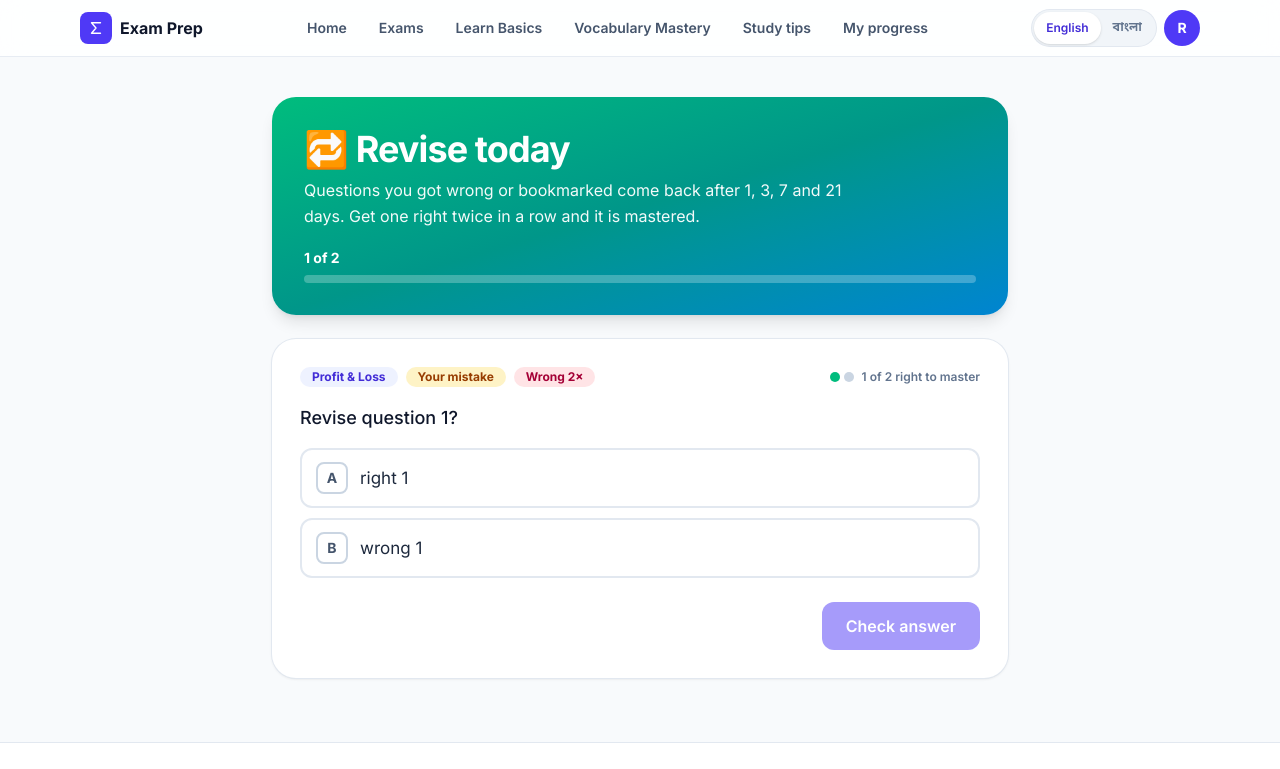
Test case: revision queue and mistake notebook › a revision session: right twice masters, wrong comes back tomorrow, then a summary
Check: the text "Revise question 1?" is shown, box [300,407,458,428]
Check: the text "1 of 2" is shown, box [304,249,340,266]
Click the radio button labelled "A right 1" at (332, 478), box [300,448,980,508]
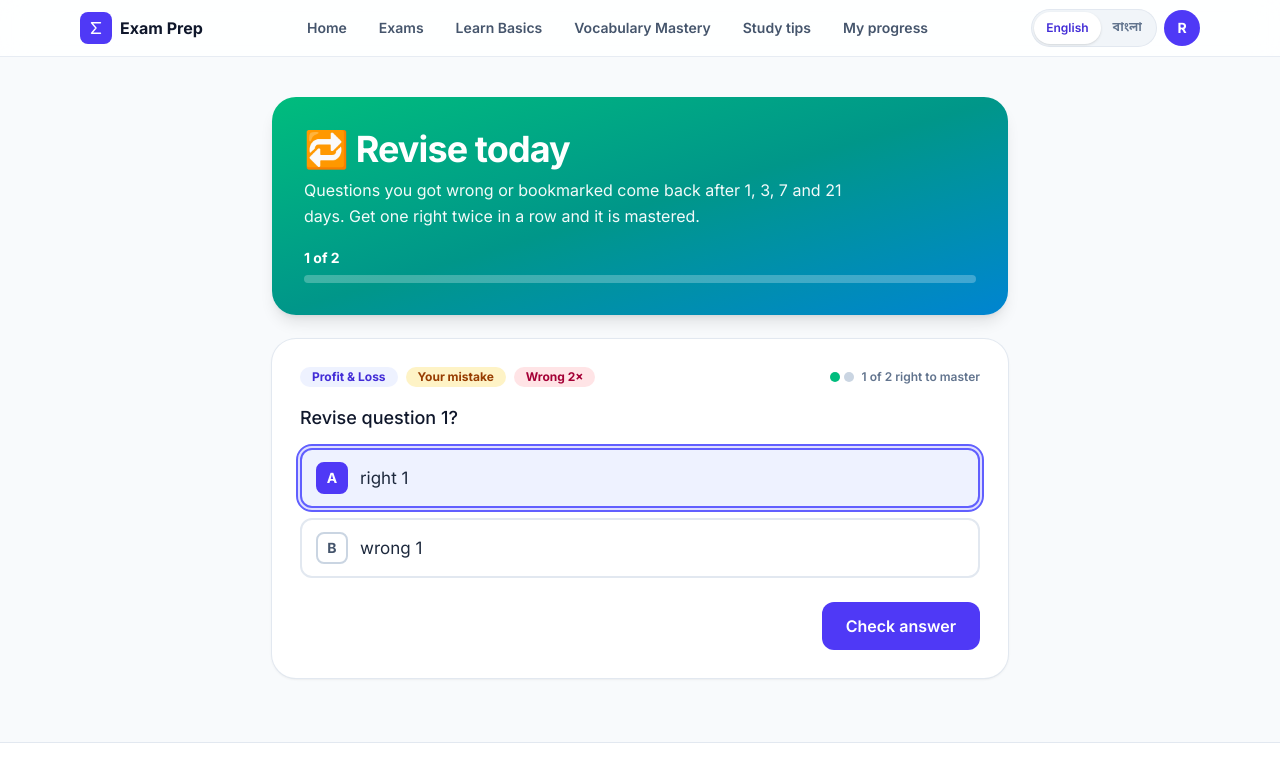
Click the button "Check answer" at (901, 626), box [822,602,980,650]
(page scrolled)
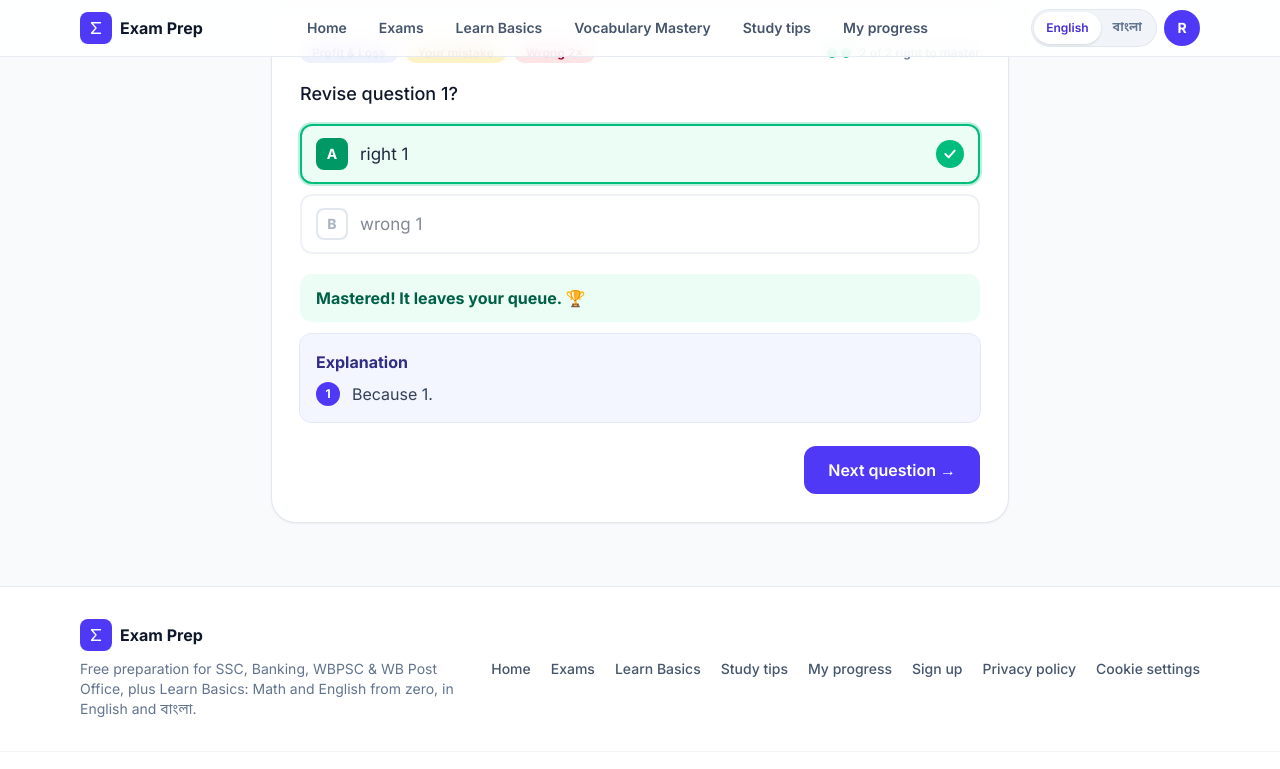
Check: the text "Mastered! It leaves your queue. 🏆" is shown, box [300,274,980,322]
Check: the text "Because 1." is shown, box [352,384,433,404]
Click the button "Next question →" at (892, 470), box [804,446,980,494]
(page scrolled)
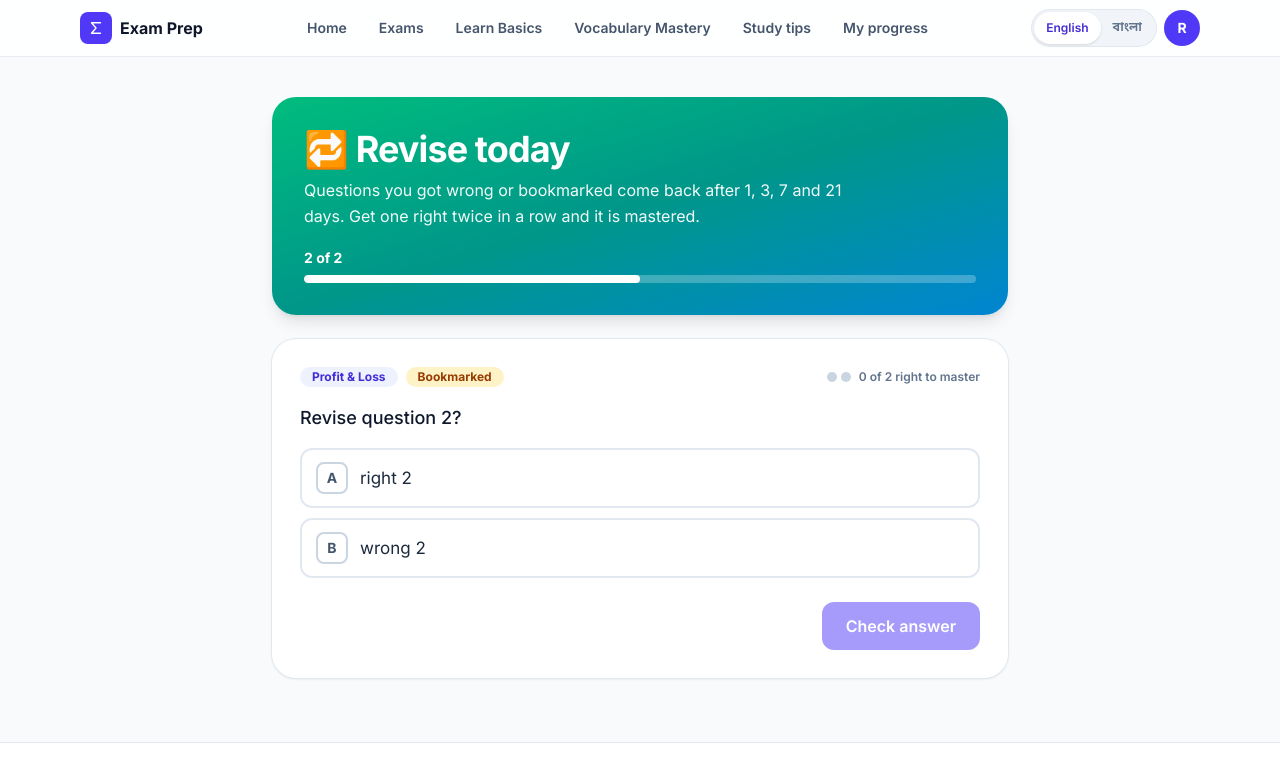
Check: the text "Revise question 2?" is shown, box [300,407,462,428]
Click the radio button labelled "B wrong 2" at (332, 548), box [300,518,980,578]
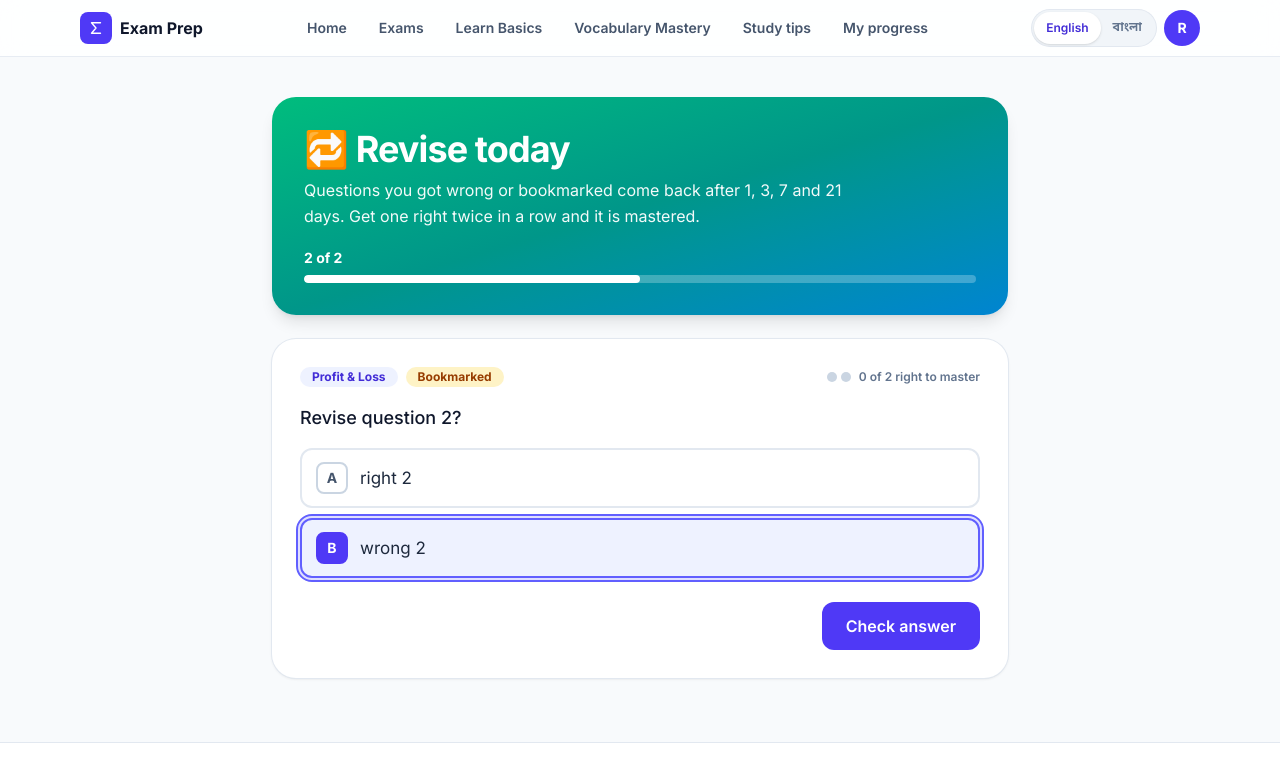
Click the button "Check answer" at (901, 626), box [822,602,980,650]
(page scrolled)
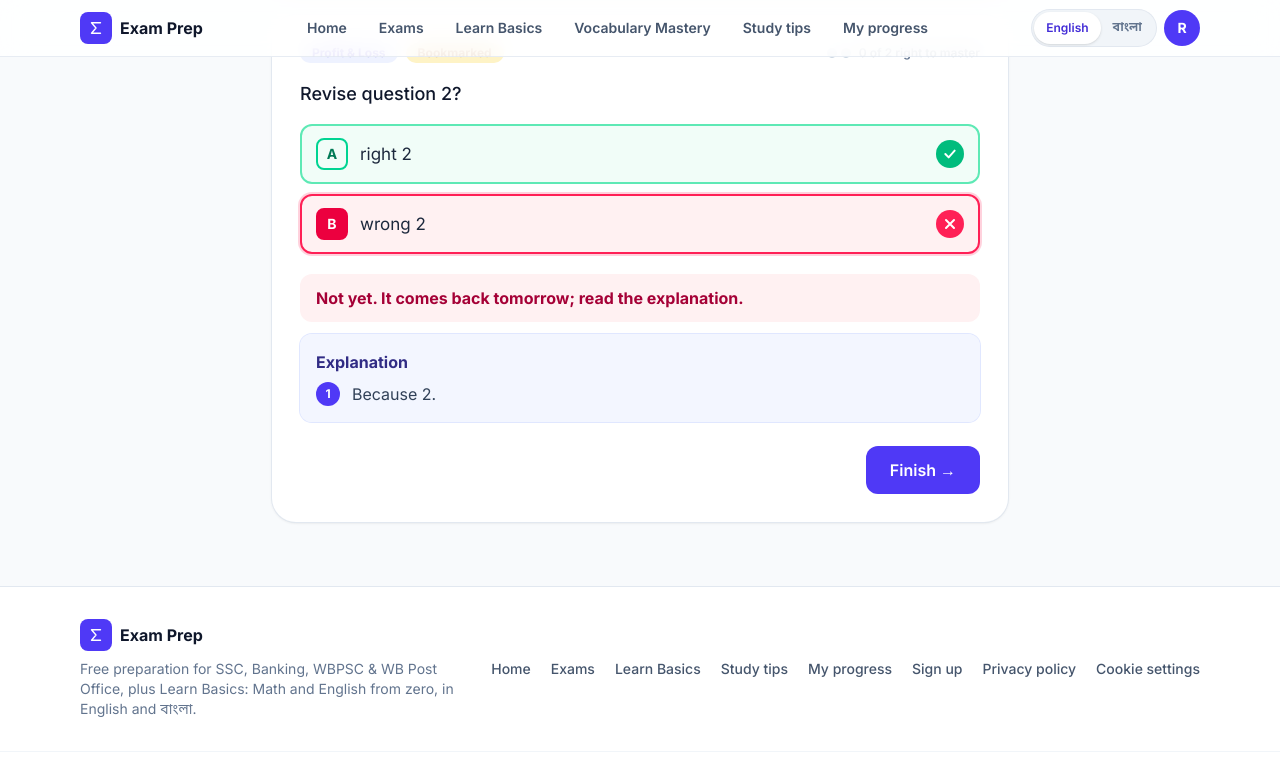
Check: the text "Not yet. It comes back tomorrow; read the explanation." is shown, box [300,274,980,322]
Click the button "Finish →" at (923, 470), box [866,446,980,494]
(page scrolled)
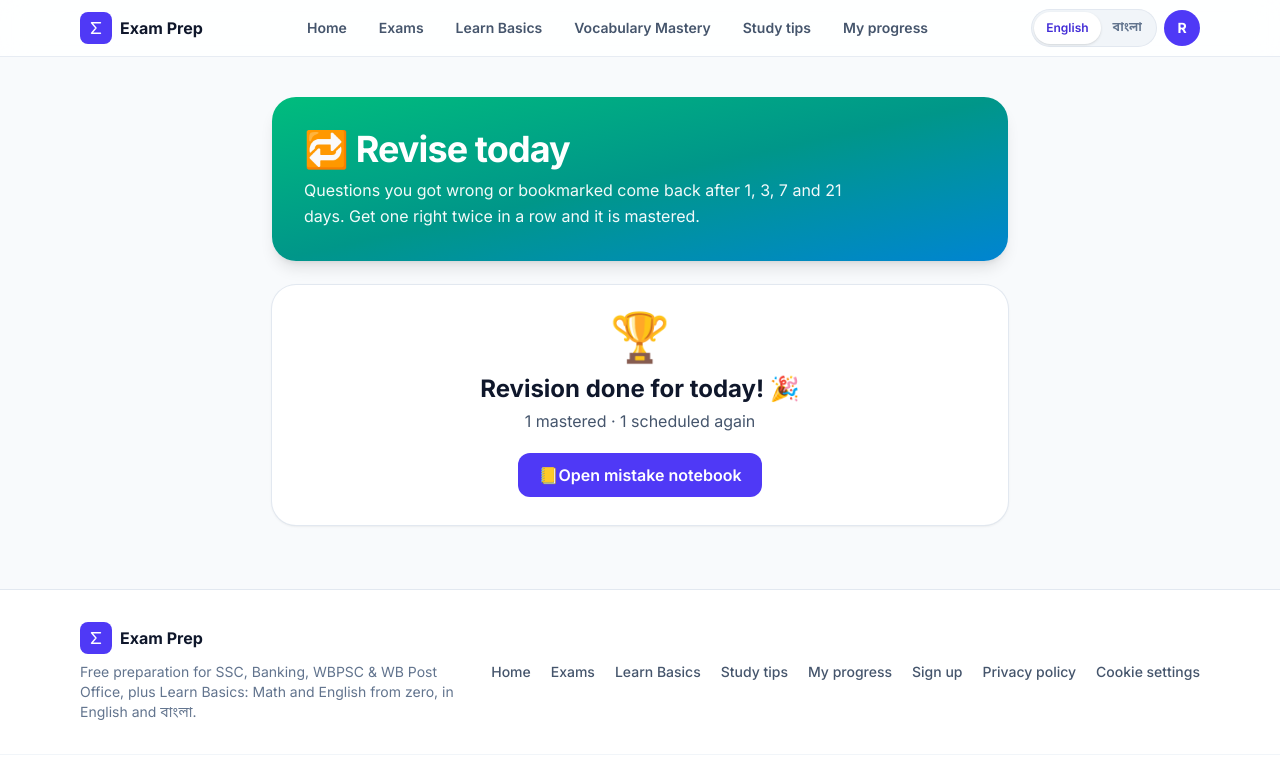
Check: the heading "Revision done for today! 🎉" is shown, box [480,374,800,403]
Check: the text "1 mastered · 1 scheduled again" is shown, box [525,411,755,431]
